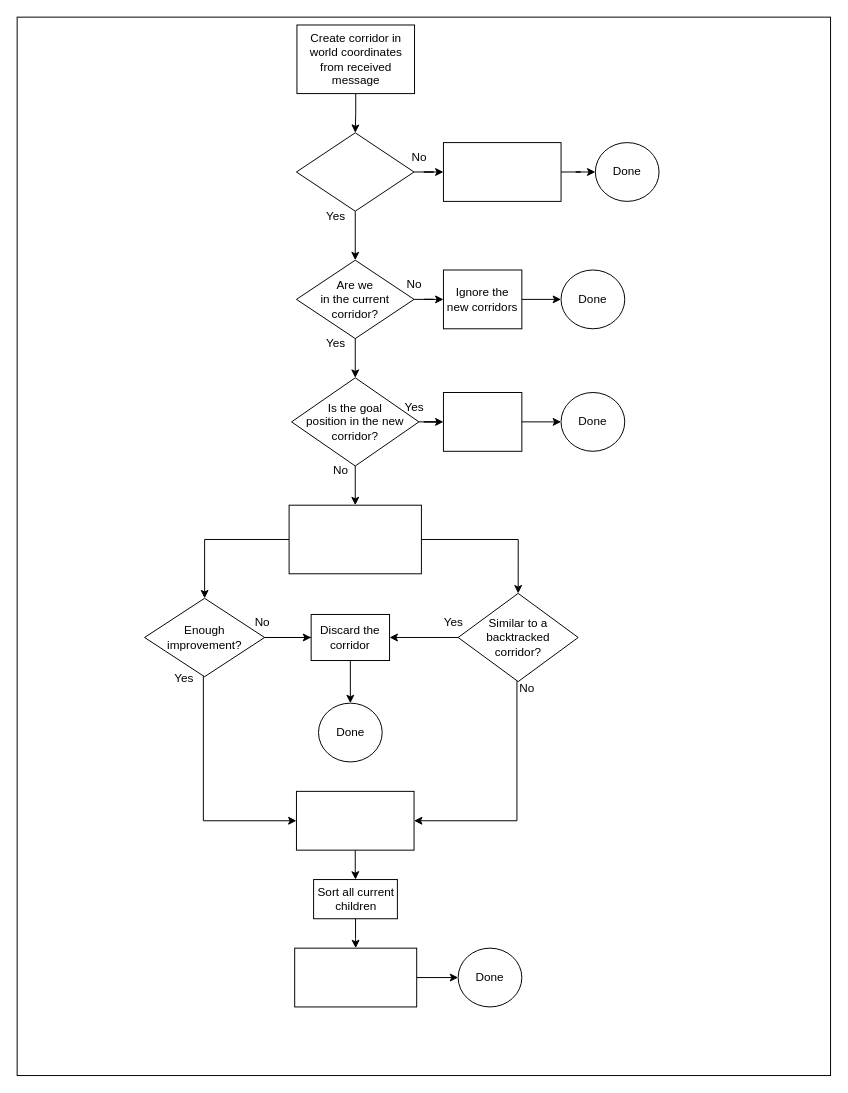
Image size: 848x1093. Some labels were removed from this diagram. Here are the shapes that lost their labels. From the top down, the centre of each, then its label:
point (354, 171): Is this the first corridor?
point (501, 171): Make the new corridor the root corridor
point (482, 421): Publish it and stop
point (354, 539): Compute the improvement distance (stuck detection)
point (354, 820): Add the corridor as a child to the current corridor
point (355, 977): Remove similar children (starting from worst)
